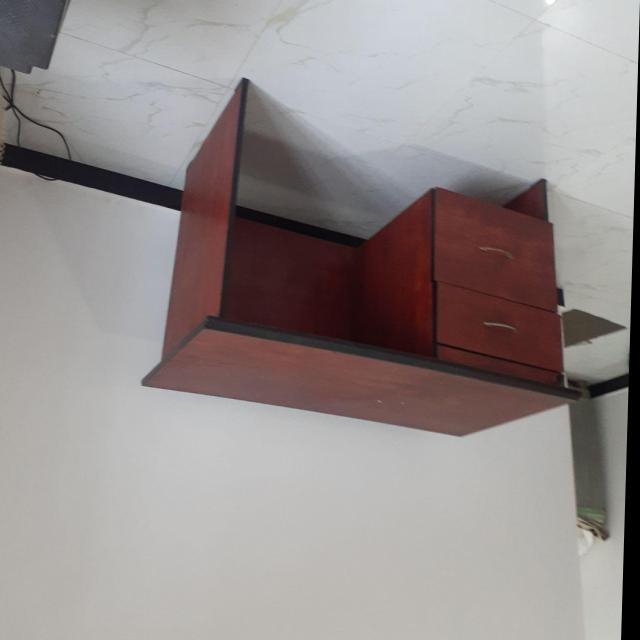Table: (128, 70, 605, 454)
